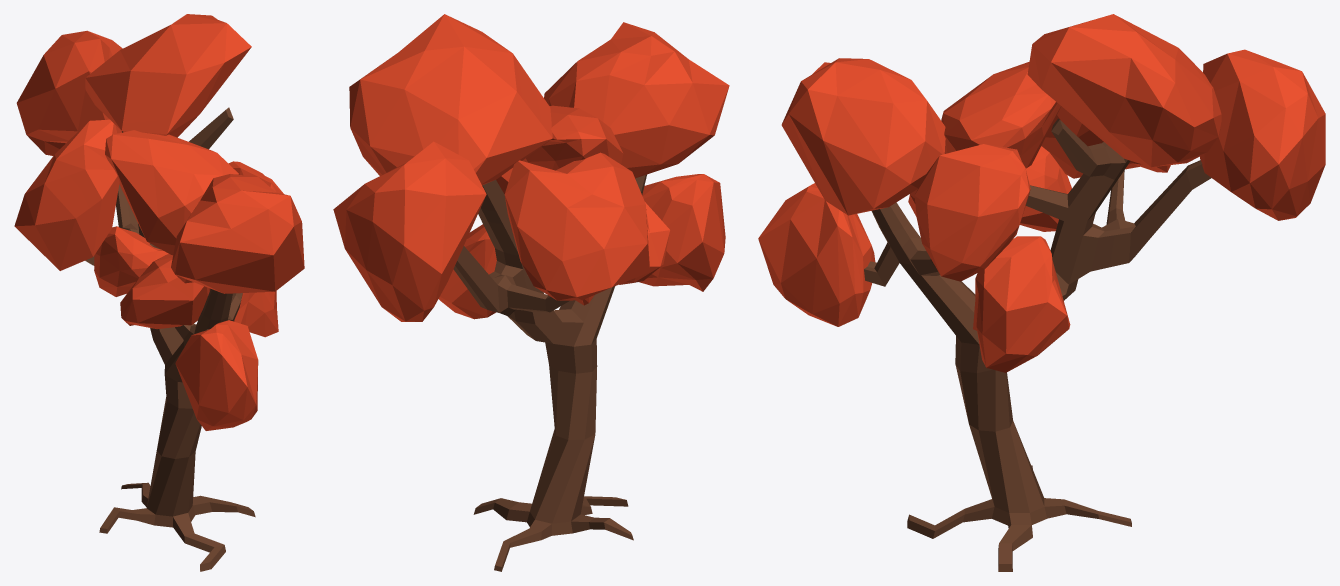
3 renders of one model, left to right at view 1: azimuth 30°, elevation 25°; view 2: azimuth 150°, elevation 25°; view 3: azimuth 270°, elevation 25°, orthographic. The views are drawn at different scales.
Visible parts, largest first — view 1: t1-orange; view 2: t1-orange; view 3: t1-orange.
Part boxes in pixels (box(x1,y1,x2,y2)): t1-orange: box(14, 14, 304, 571); t1-orange: box(333, 14, 729, 571); t1-orange: box(758, 14, 1325, 571).
Bounding box in the file's own units: 606 × 1175 × 1101.
